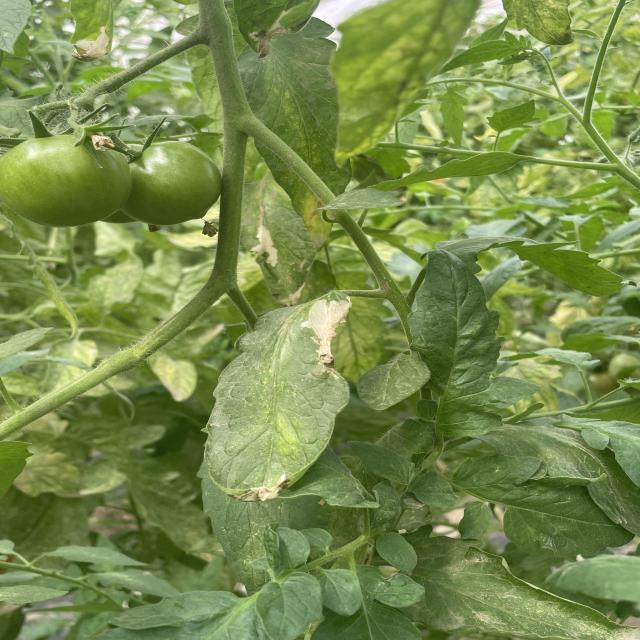Tuta absoluta: (294, 288, 353, 370), (244, 224, 287, 269)
